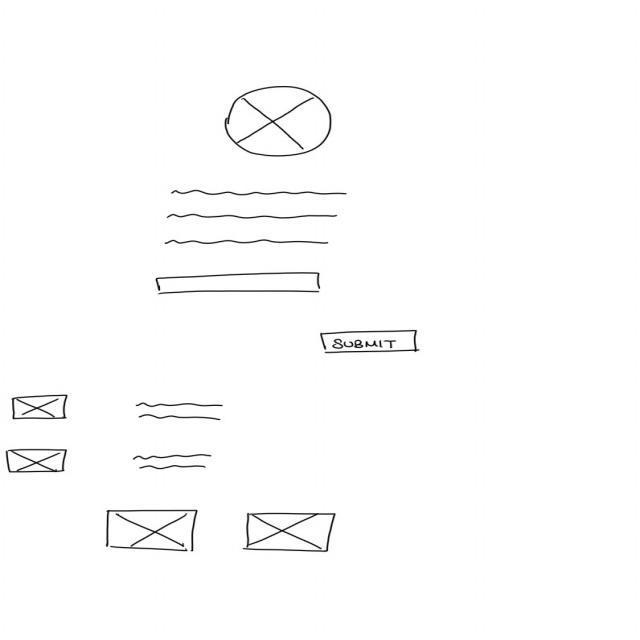button: (321, 328, 423, 358)
image: (224, 85, 336, 160), (104, 509, 201, 553), (246, 513, 340, 555), (6, 448, 70, 477), (12, 394, 72, 422)
input: (157, 271, 326, 297)
textbox: (163, 190, 351, 248), (134, 402, 230, 422), (133, 453, 218, 473)
